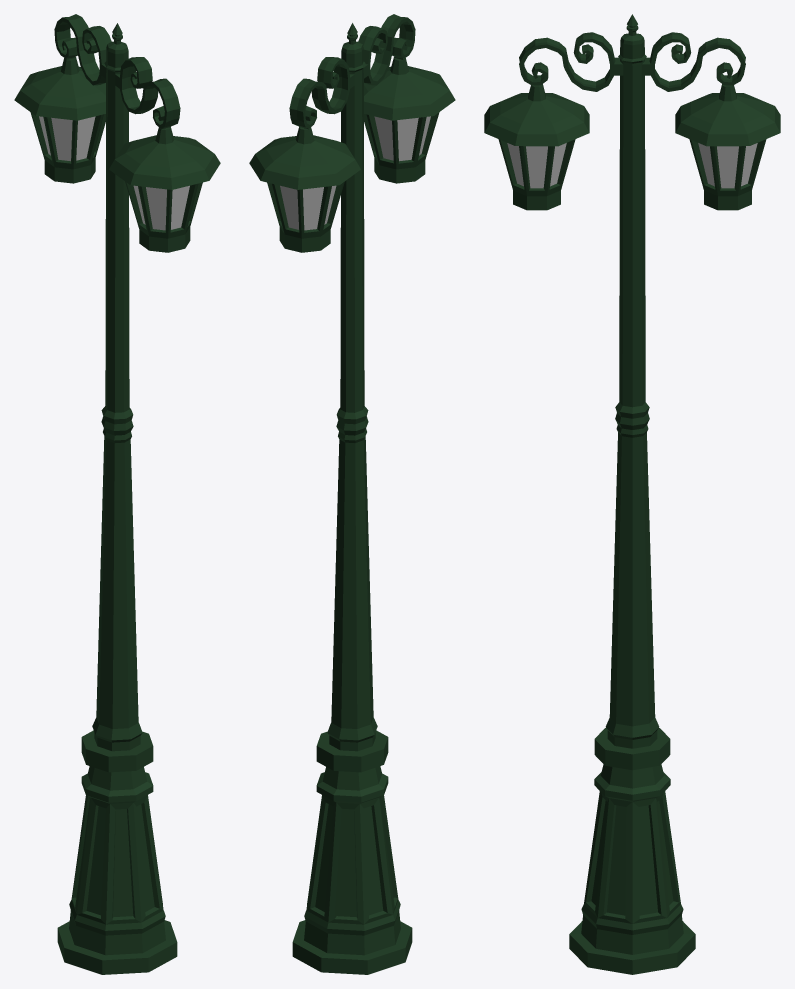
The model's file is streetlight_double.glb.
3 views of the same model, side by side, from view 1: azimuth 30°, elevation 25°; view 2: azimuth 150°, elevation 25°; view 3: azimuth 270°, elevation 25° (orthographic).
Parts seen in each view (by area): view 1: Green.002, Glass.002; view 2: Green.002, Glass.002; view 3: Green.002, Glass.002.
Boxes of the visible parts, x1,y1,x2,y2 form: Green.002: [14, 14, 220, 974]; Glass.002: [39, 116, 189, 230]; Green.002: [249, 14, 455, 974]; Glass.002: [280, 116, 430, 230]; Green.002: [484, 14, 780, 974]; Glass.002: [507, 143, 757, 188].
Bounding box in the file's own units: 0.1317 × 1.1 × 0.3157.
